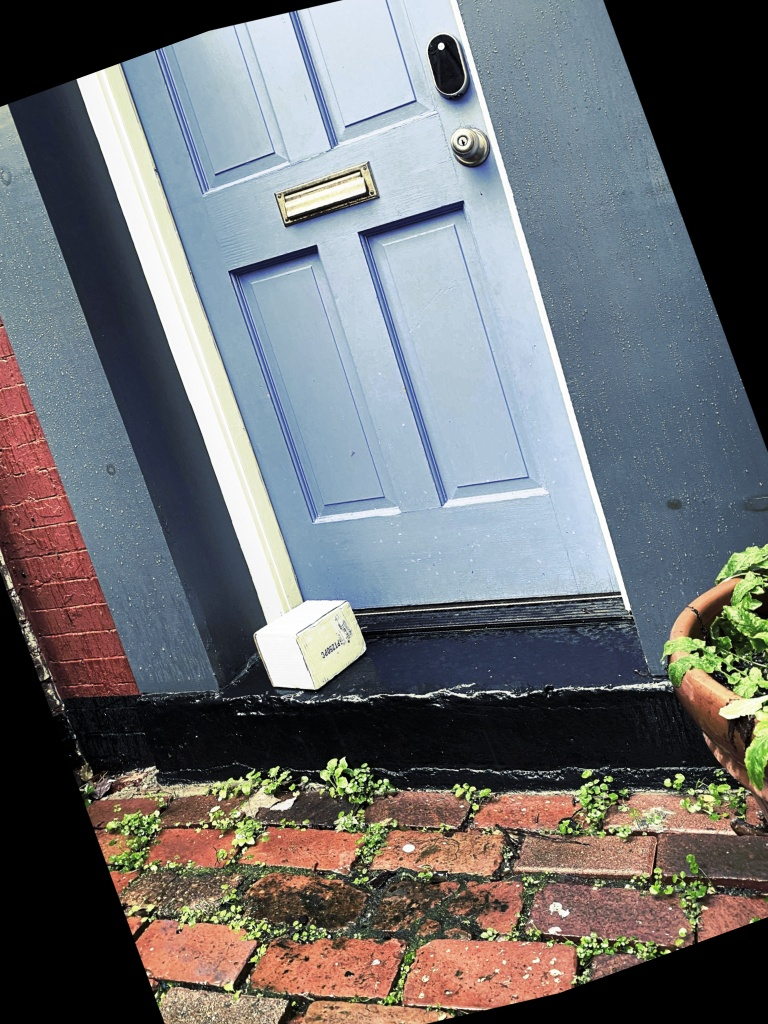good-parcel: (235, 580, 374, 693)
